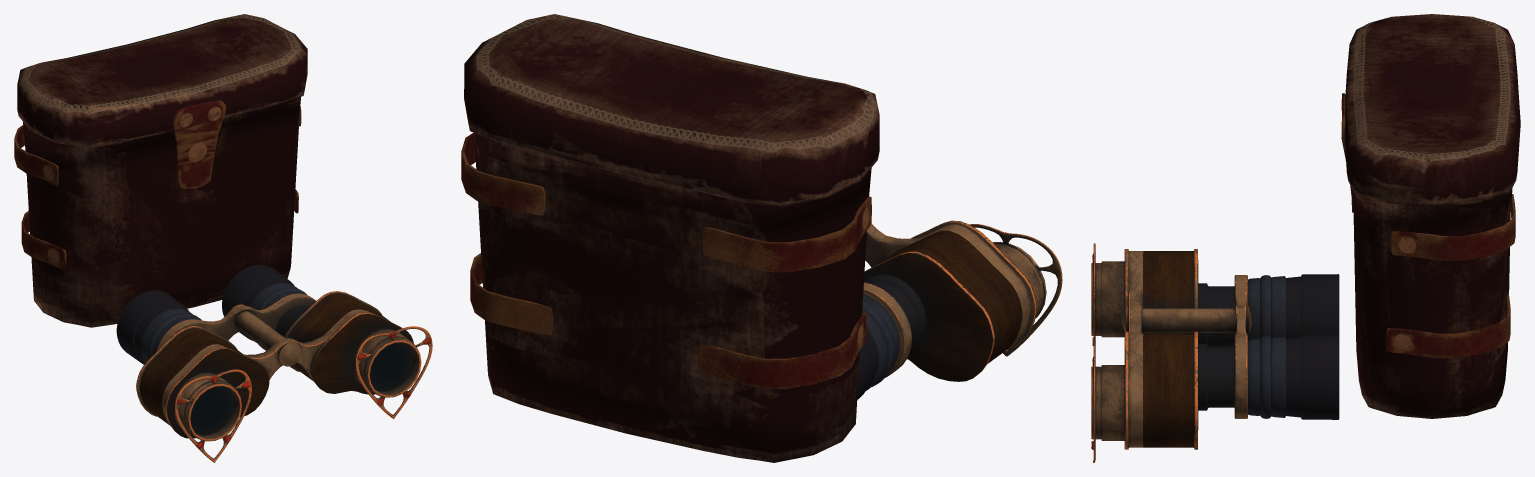
File: binoculares_web_normal.glb
3 renders of one model, left to right at view 1: azimuth 30°, elevation 25°; view 2: azimuth 150°, elevation 25°; view 3: azimuth 270°, elevation 25°, orthographic. The views are drawn at different scales.
Parts seen in each view (by area): view 1: Cube.004, Cube, Cylinder, Cylinder.001, Cube.005, Plane.004, Plane, Cylinder.002; view 2: Cube.004, Cube, Plane.004, Cylinder, Plane, Cylinder.001; view 3: Cube.004, Cylinder, Cube, Plane.004, Cylinder.001, Cylinder.002, Plane.
Boxes of the visible parts, box(x1,y1,x2,y2) form: Cube.004: box(17, 14, 307, 327); Cube: box(136, 291, 413, 438); Cylinder: box(116, 264, 315, 364); Cylinder.001: box(173, 329, 421, 441); Cube.005: box(172, 100, 225, 189); Plane.004: box(14, 106, 301, 269); Plane: box(175, 326, 432, 462); Cylinder.002: box(229, 304, 301, 366); Cube.004: box(464, 14, 879, 462); Cube: box(864, 220, 1036, 381); Plane.004: box(461, 132, 871, 388); Cylinder: box(857, 274, 925, 399); Plane: box(970, 224, 1062, 356); Cylinder.001: box(994, 243, 1046, 317); Cube.004: box(1344, 14, 1520, 418); Cylinder: box(1198, 274, 1339, 419); Cube: box(1124, 249, 1198, 449); Plane.004: box(1386, 194, 1515, 358); Cylinder.001: box(1091, 261, 1124, 440); Cylinder.002: box(1121, 305, 1252, 335); Plane: box(1093, 243, 1095, 462).
Size of the model in its own units: 9.91 by 9.83 by 11.71.
Materials: 3 (3 with a texture image).
